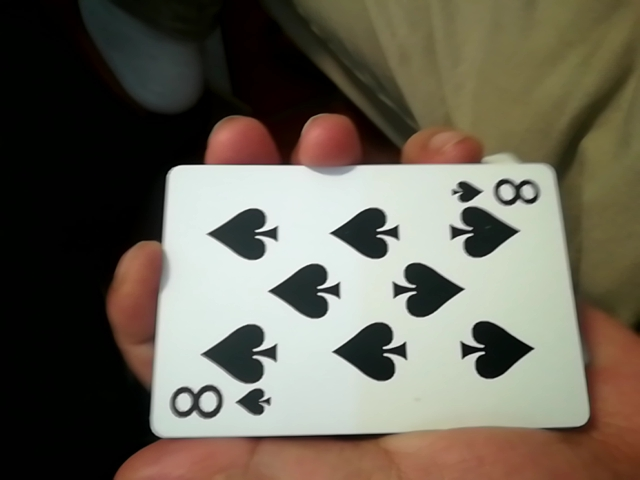ht 8: (128, 146, 575, 456)
